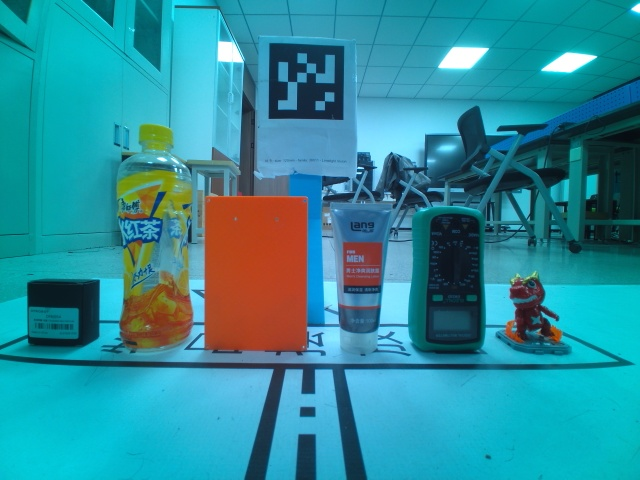banzi: (26, 278, 100, 348)
binghongcha: (495, 269, 573, 355)
dabao: (327, 199, 393, 353)
dianbiao: (114, 123, 194, 353)
hezi: (407, 203, 487, 355)
long: (203, 195, 309, 352)
